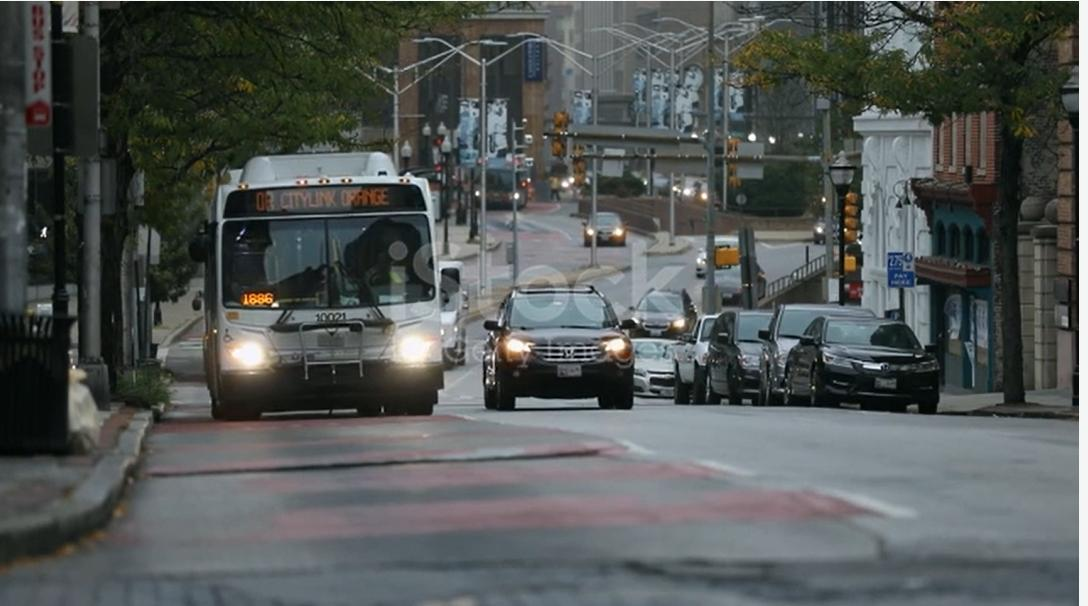bus: (137, 129, 511, 427)
car: (480, 253, 665, 436), (777, 307, 958, 422), (686, 306, 779, 400), (627, 280, 690, 345), (576, 206, 639, 262)
